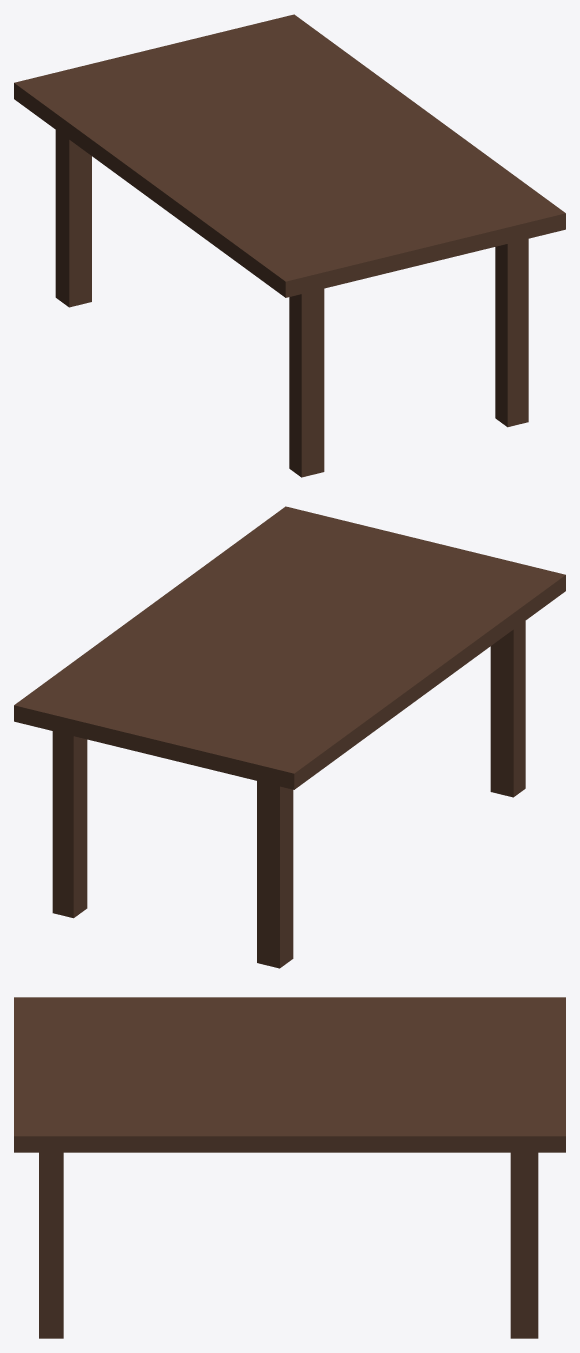
The model's file is Table.fbx.
The picture shows the model from 3 angles, top to bottom: view 1: azimuth 30°, elevation 25°; view 2: azimuth 150°, elevation 25°; view 3: azimuth 270°, elevation 25°; orthographic projection.
Parts seen in each view (by area): view 1: Cube; view 2: Cube; view 3: Cube.
Part boxes in pixels (bbox=[...]): Cube: bbox=[14, 14, 565, 477]; Cube: bbox=[14, 506, 565, 968]; Cube: bbox=[14, 997, 565, 1338].
Bounding box in the file's own units: 154 × 111 × 258.
